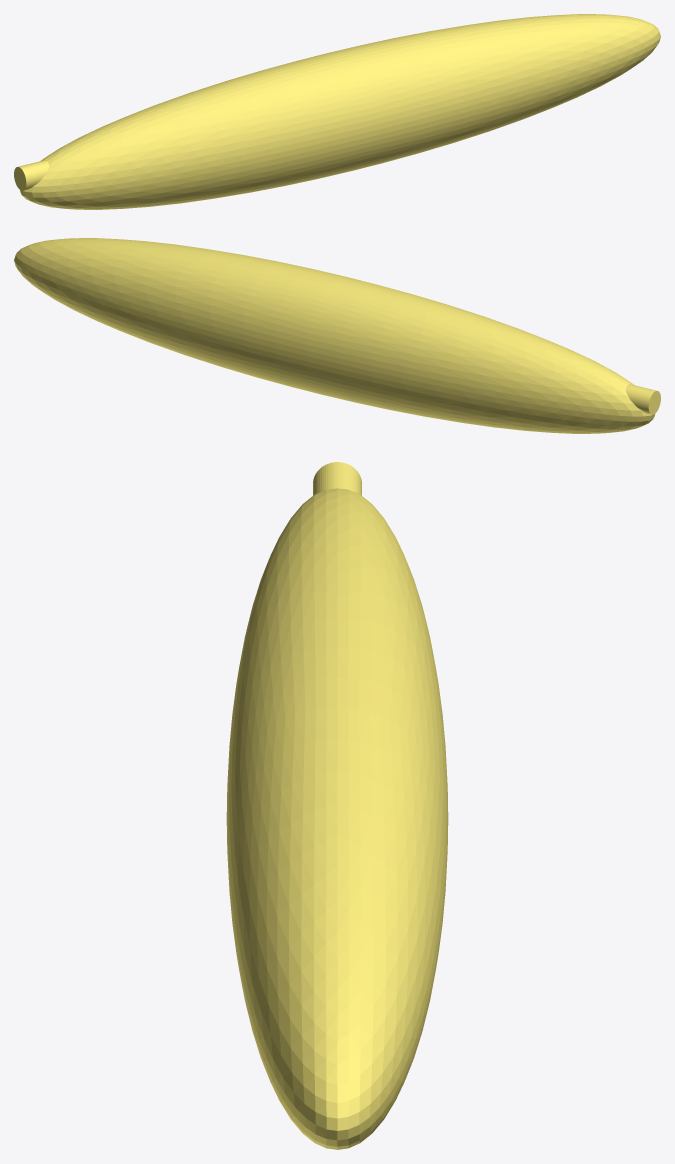
File: ref_banana.glb
3 views of the same model, one above another, from view 1: azimuth 30°, elevation 25°; view 2: azimuth 150°, elevation 25°; view 3: azimuth 270°, elevation 25° (orthographic). The views are drawn at different scales.
Visible parts, largest first — view 1: body-union; view 2: body-union; view 3: body-union.
Boxes of the visible parts, bbox=[...] form: body-union: bbox=[14, 14, 660, 209]; body-union: bbox=[14, 238, 660, 433]; body-union: bbox=[226, 462, 448, 1149].
Size of the model in its own units: 180 by 30 by 27.
